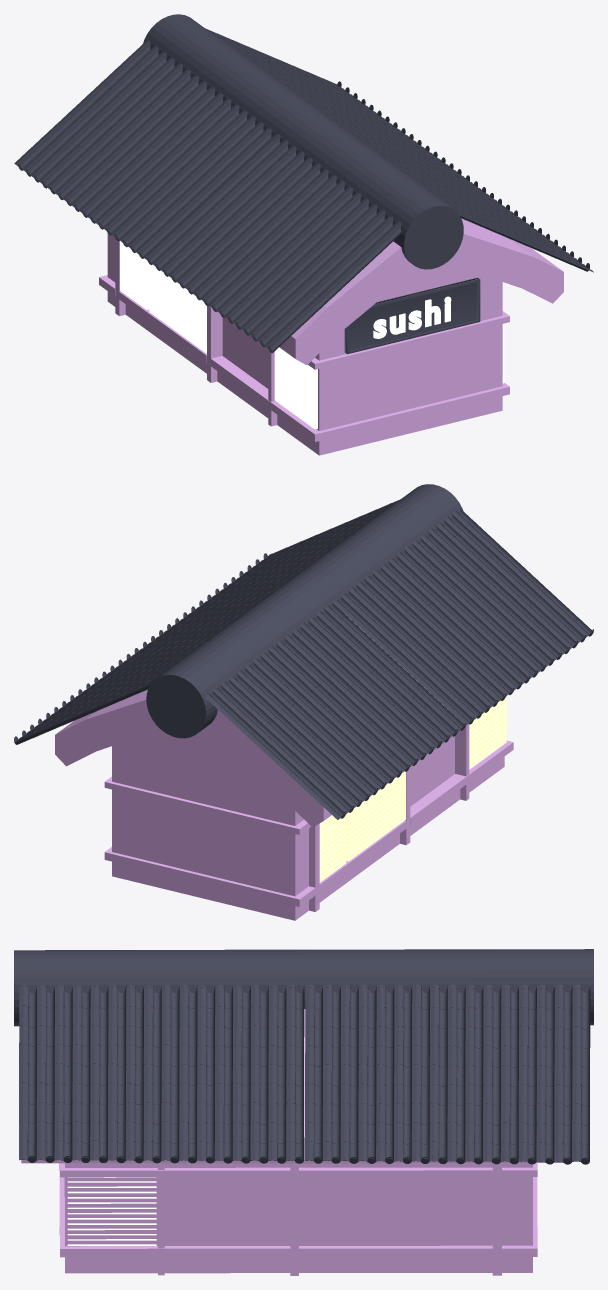
Rendered from sushi.fbx.
The picture shows the model from 3 angles, top to bottom: view 1: azimuth 30°, elevation 25°; view 2: azimuth 150°, elevation 25°; view 3: azimuth 270°, elevation 25°; orthographic projection. The views are drawn at different scales.
Visible parts, largest first — view 1: Cube.008, Cube.025, Cube.009, Cube.026, Cube.028, Cube.027, OFFICE.001; view 2: Cube.008, Cube.025, Cube.026, Cube.028, Cube.027; view 3: Cube.008, Cube.025, Cube.029.
Part boxes in pixels (x1,y1,x2,y2): Cube.008: (14, 14, 593, 353); Cube.025: (99, 218, 563, 455); Cube.009: (344, 277, 480, 354); Cube.026: (149, 264, 206, 353); Cube.028: (274, 347, 317, 429); Cube.027: (120, 241, 149, 309); OFFICE.001: (373, 296, 451, 338); Cube.008: (14, 484, 593, 819); Cube.025: (55, 615, 513, 920); Cube.026: (346, 771, 405, 861); Cube.028: (469, 696, 506, 769); Cube.027: (319, 814, 346, 882); Cube.008: (14, 949, 593, 1164); Cube.025: (21, 1009, 563, 1275); Cube.029: (67, 1177, 156, 1245).
Bounding box in the file's own units: 531 × 379 × 737.
